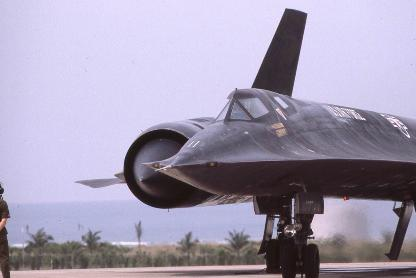Rafale: (74, 8, 415, 275)
